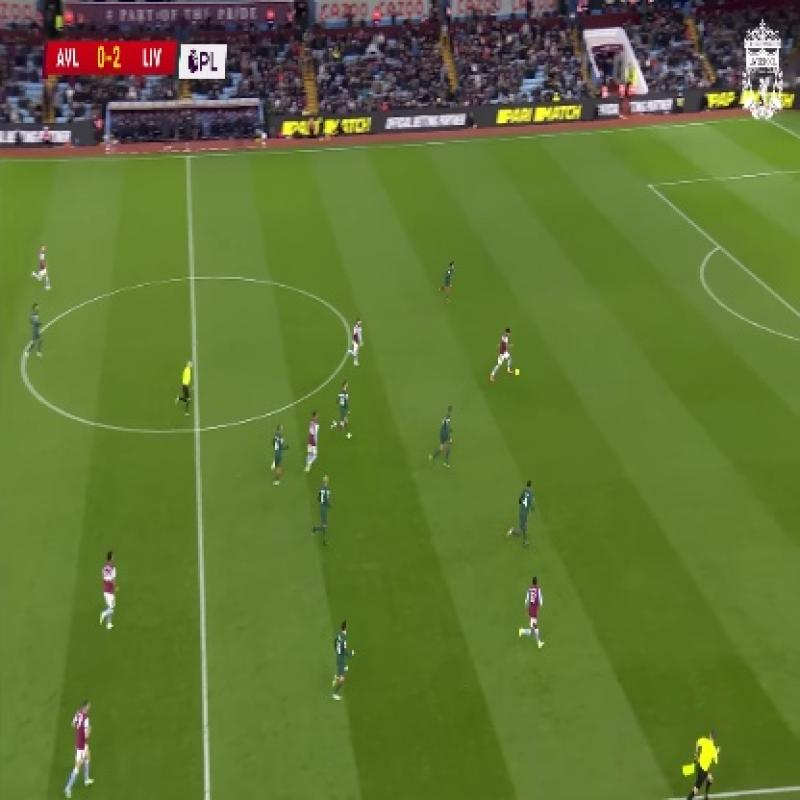10: (708, 232, 727, 256)
13: (179, 142, 198, 168)
14: (179, 260, 206, 292)
15: (180, 410, 208, 449)
9: (639, 173, 658, 196)
c: (328, 308, 376, 364), (0, 342, 48, 392)
